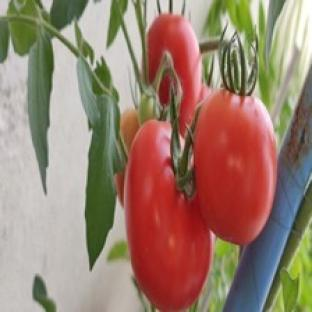Tomato: (126, 120, 213, 310), (194, 90, 277, 245), (148, 14, 201, 135), (120, 109, 139, 151), (201, 84, 211, 101)
